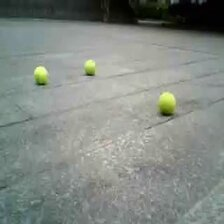tennis: (158, 92, 176, 113), (33, 66, 49, 84), (84, 59, 96, 75)
